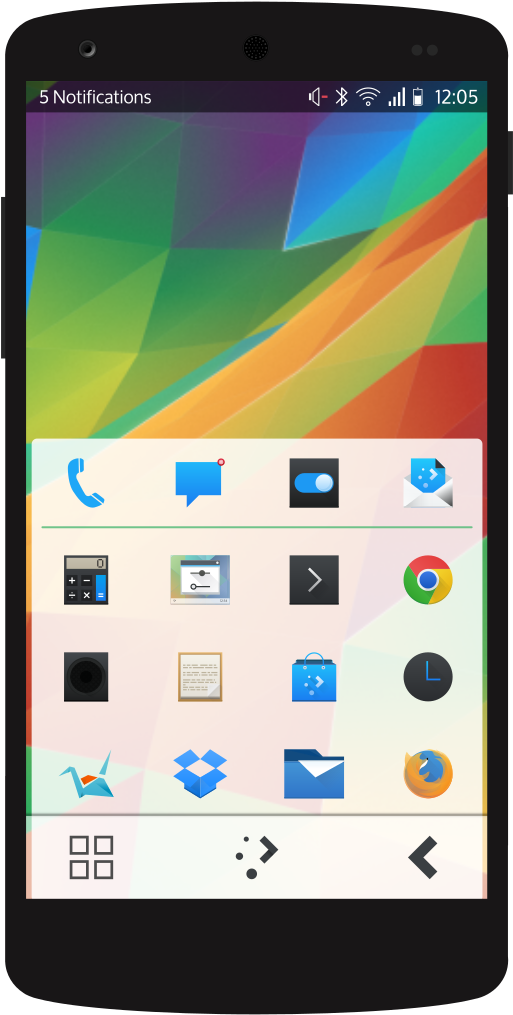phone: (2, 8, 513, 1008)
